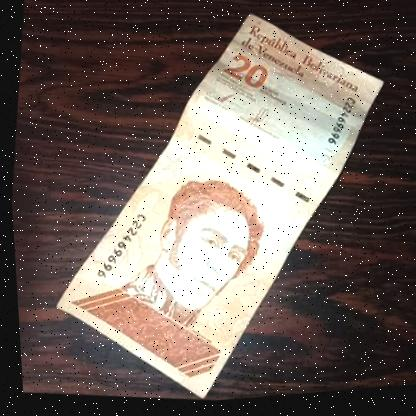twenty-front-vef: (24, 0, 407, 414)
